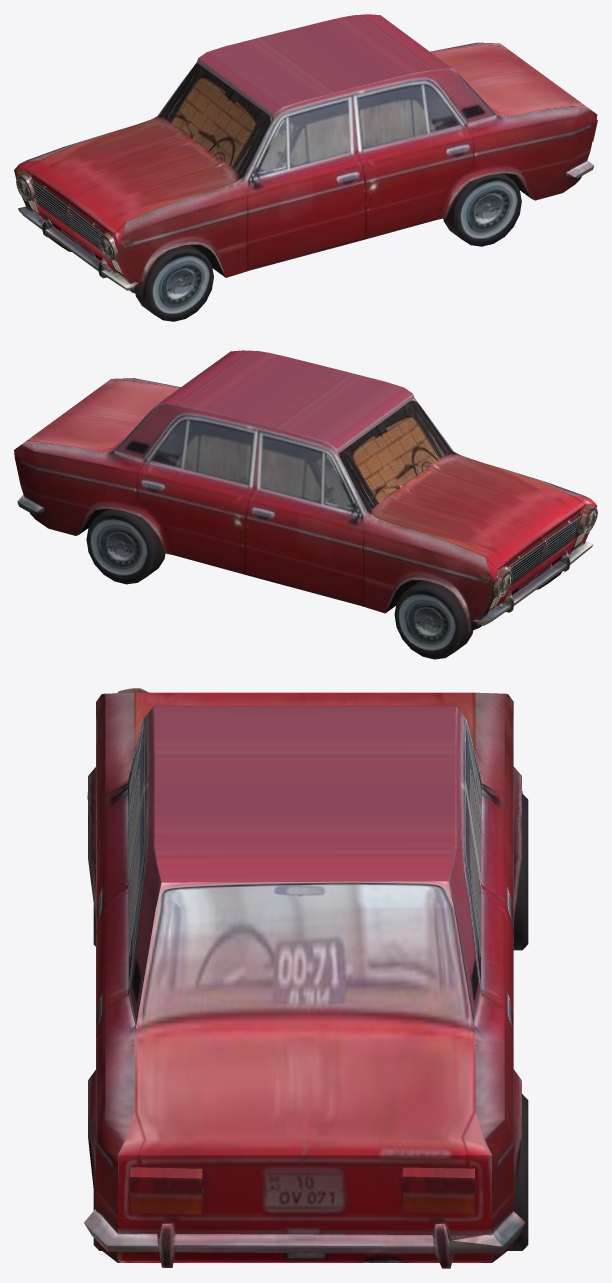
The model's file is vaz_2101.glb.
The picture shows the model from 3 angles, top to bottom: view 1: azimuth 30°, elevation 25°; view 2: azimuth 150°, elevation 25°; view 3: azimuth 270°, elevation 25°; orthographic projection. The views are drawn at different scales.
Visible parts, largest first — view 1: Object_2; view 2: Object_2; view 3: Object_2.
Part boxes in pixels (left/top/right/bottom): Object_2: left=14, top=14, right=597, bottom=321; Object_2: left=14, top=350, right=597, bottom=659; Object_2: left=84, top=688, right=528, bottom=1268.
Size of the model in its own units: 166 by 57.03 by 64.88.
1 material, 1 textured.
